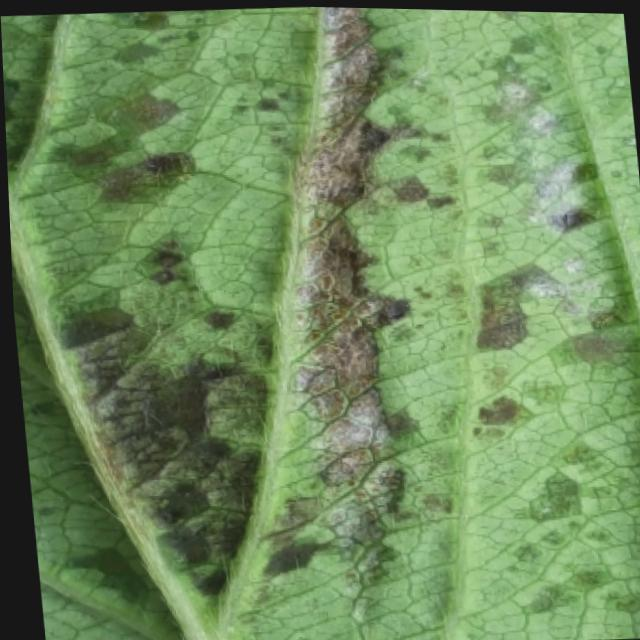Angular Leafspot: (1, 5, 640, 640)
